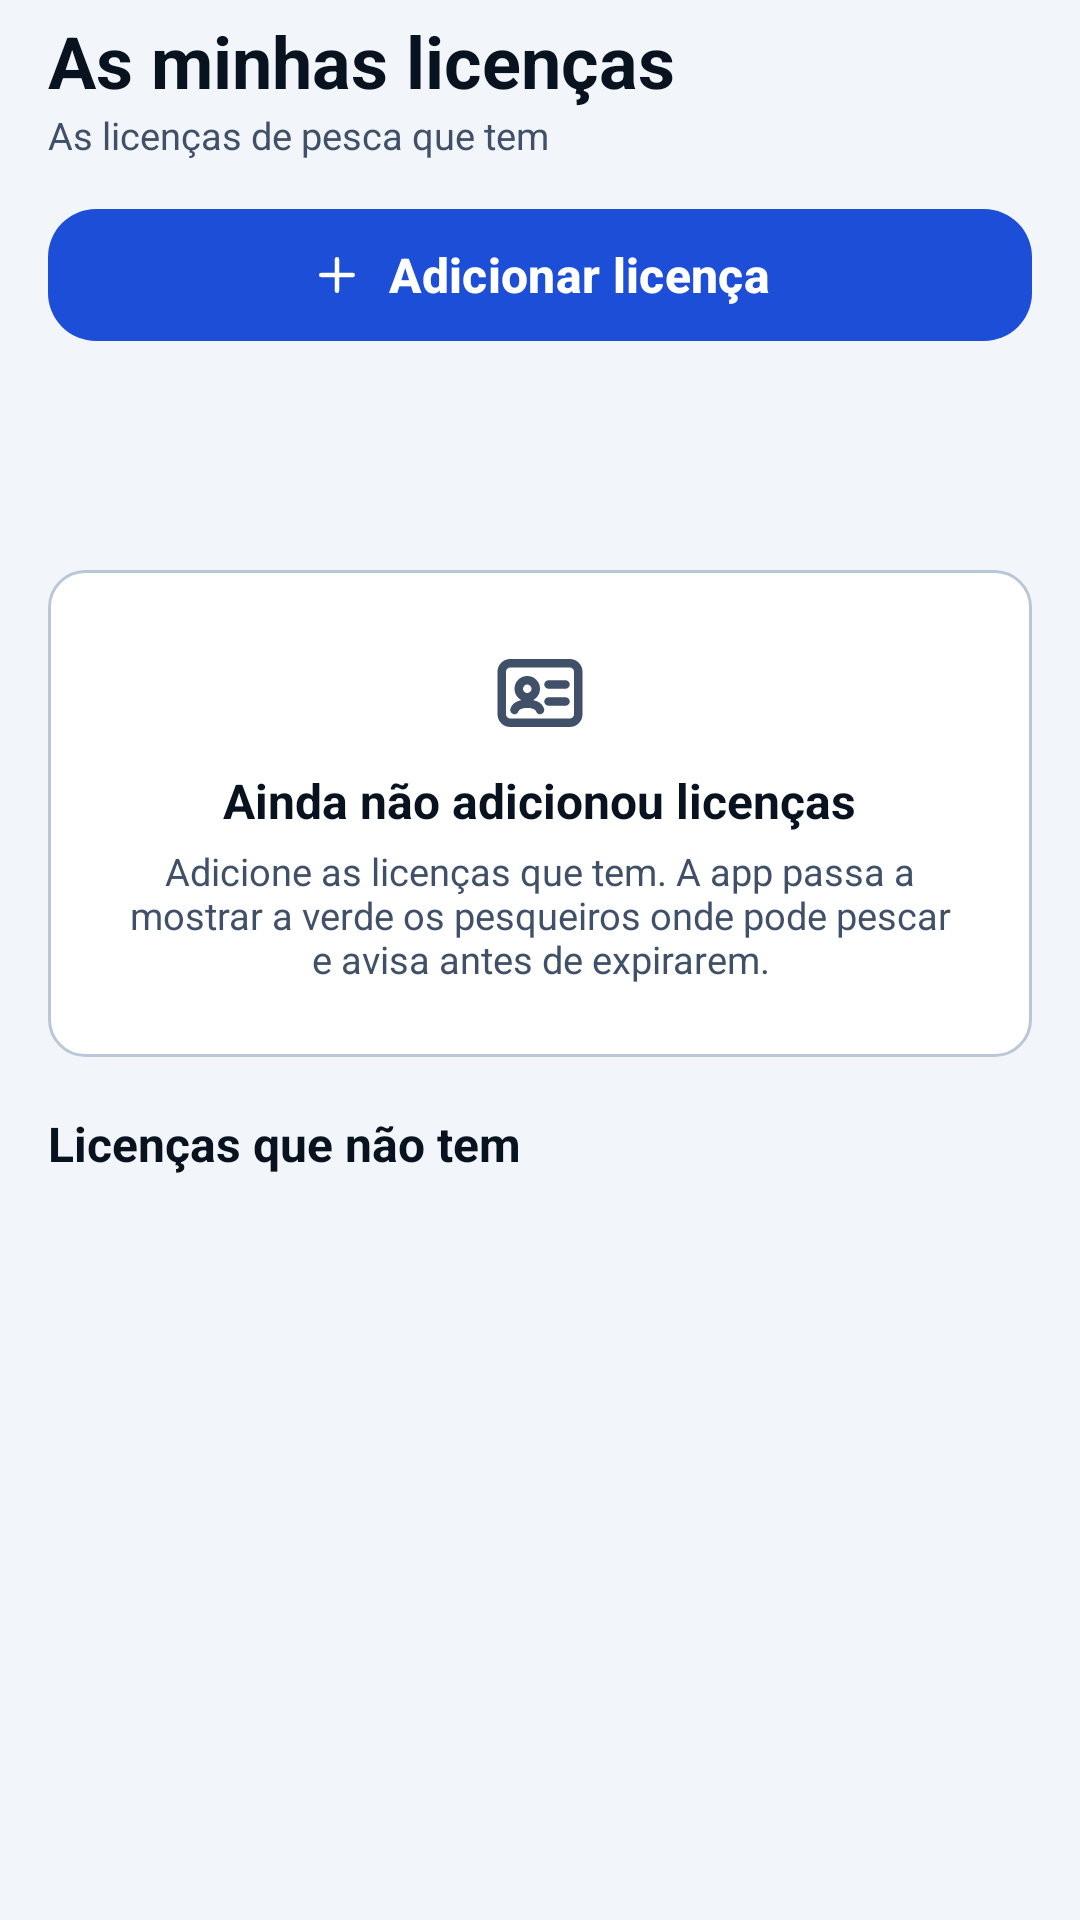

Where to tap for icons on this 1080px×1920px app screen, as (x,y):
licenca: (540,693)
